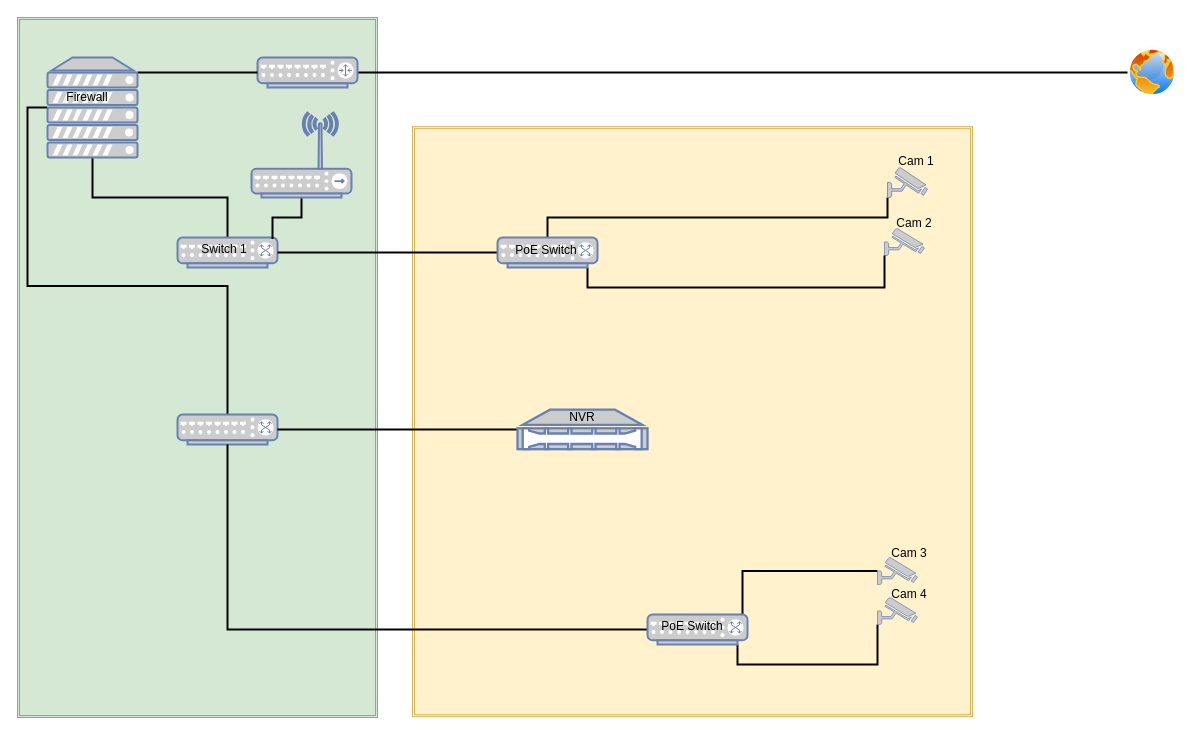
Image size: 1195x735. Some labels were removed from this diagram. Each missing label, with the box of its shape:
ISP Router: (256, 56, 358, 88)
Switch 2: (176, 413, 278, 445)
